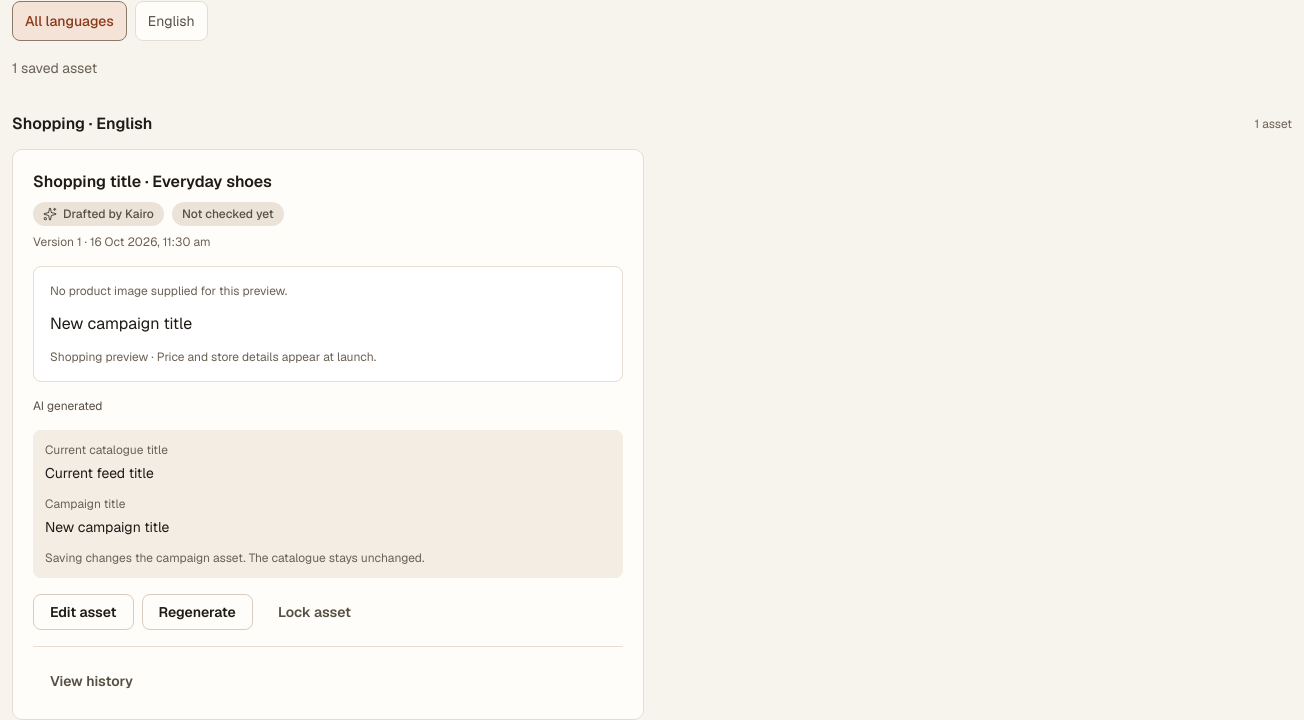
it: failed saves retain input, field errors and original version
(page scrolled)
Click the button "Edit asset" at [83, 612], box [33, 594, 134, 630]
(page scrolled)
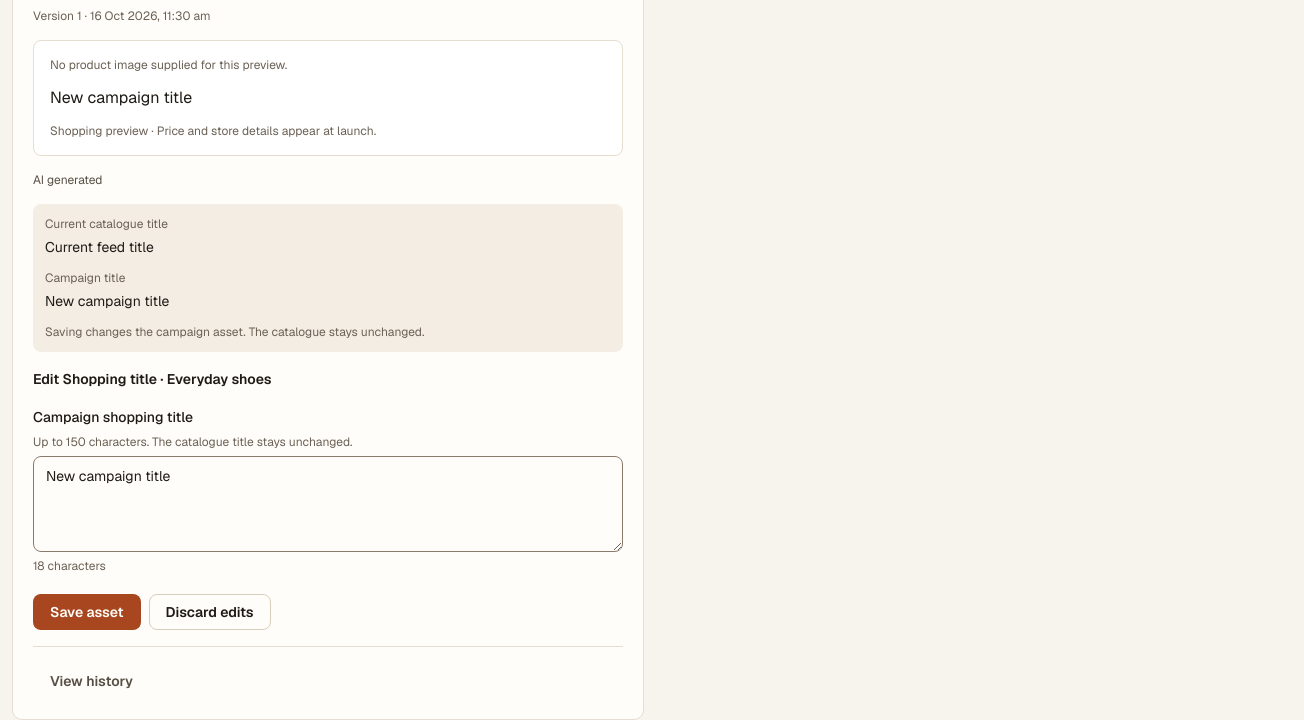
Replace the text in the text box labelled "Campaign shopping title" with "My own edited title" at [328, 504], box [33, 456, 623, 552]
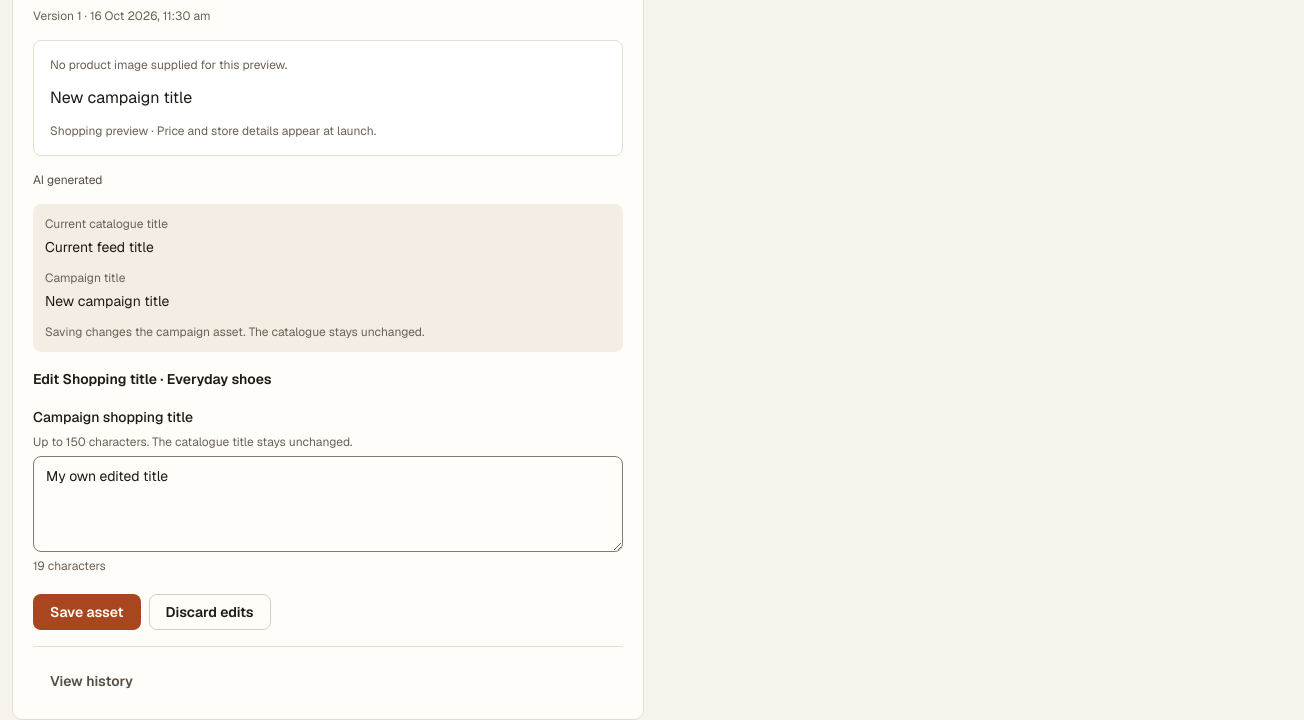
Click the button "Save asset" at [87, 612], box [33, 594, 141, 630]
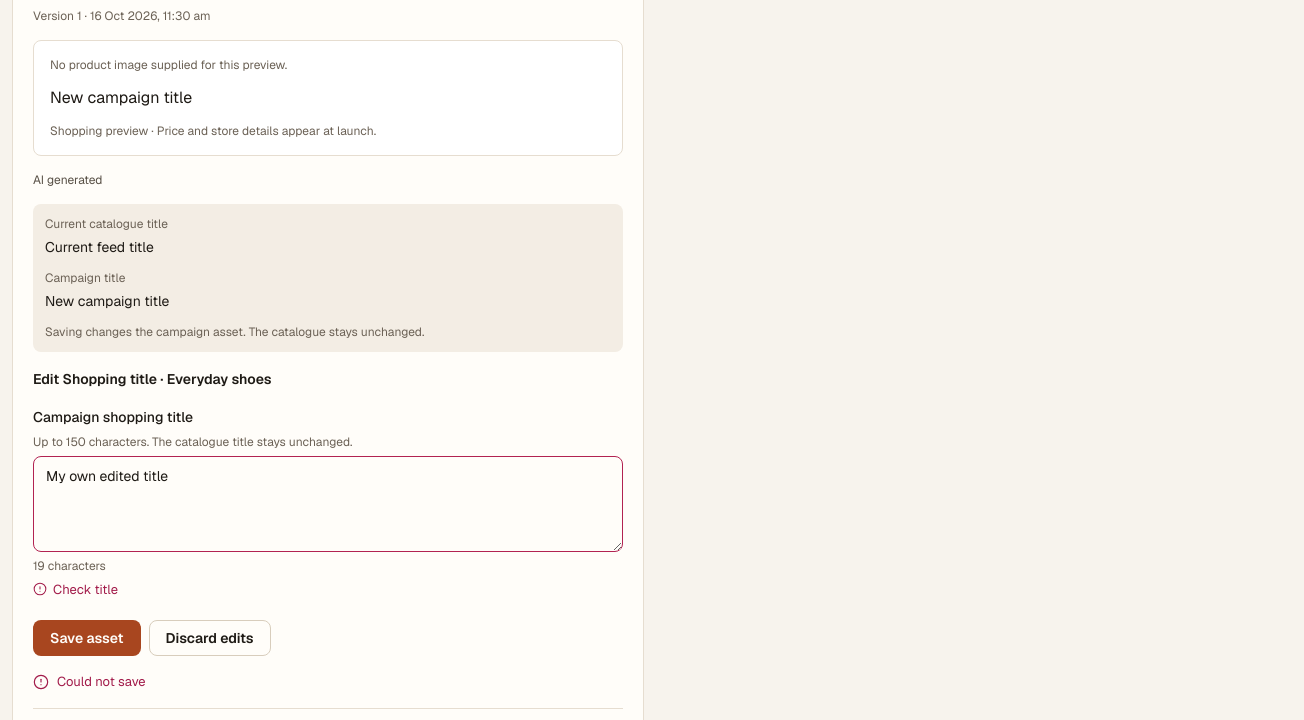
expect the text "Could not save" is shown: met, box [57, 672, 146, 692]
expect the text "Check title" is shown: met, box [53, 580, 118, 600]
